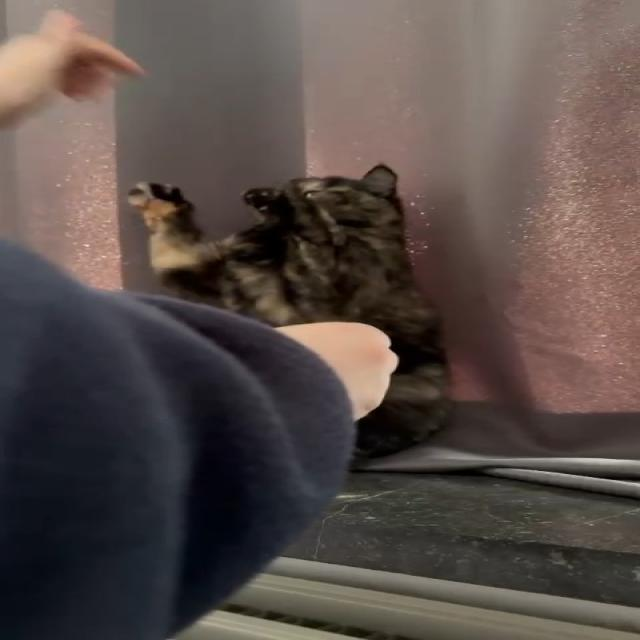authorized: (127, 162, 453, 464)
